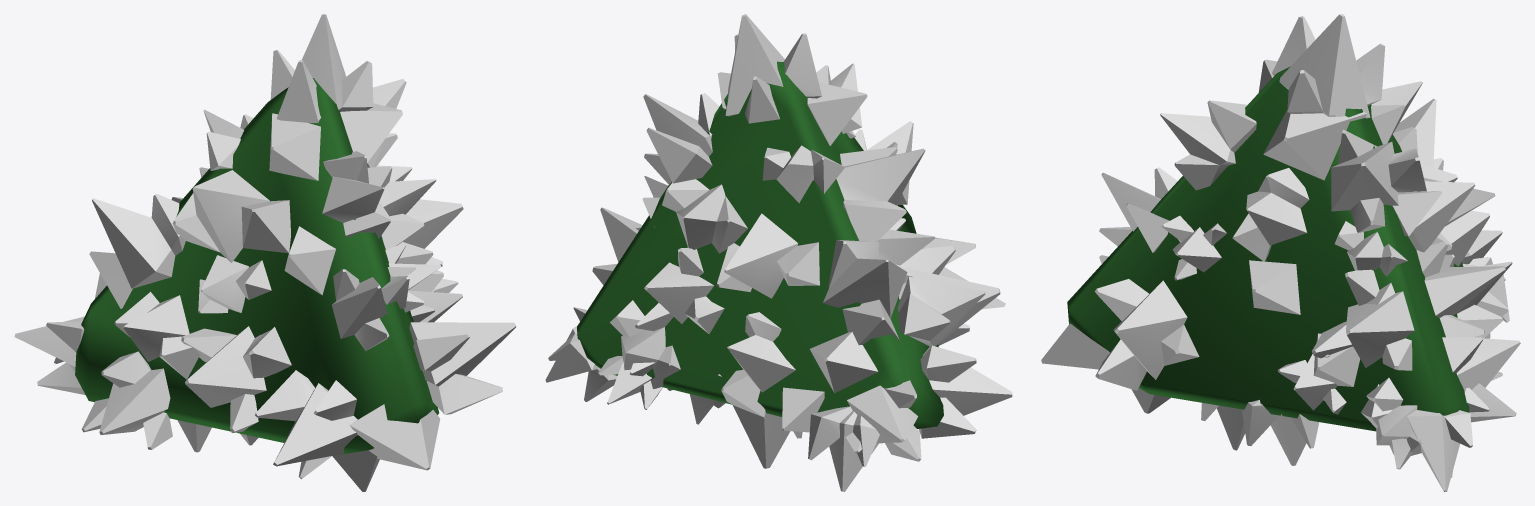
File: obj_voxelmaterialchunk_t4medium.fbx
The picture shows the model from 3 angles, left to right: view 1: azimuth 30°, elevation 25°; view 2: azimuth 150°, elevation 25°; view 3: azimuth 270°, elevation 25°; orthographic projection. The views are drawn at different scales.
Parts seen in each view (by area): view 1: t4_large_clutter.003, t4_large.003; view 2: t4_large_clutter.003, t4_large.003; view 3: t4_large_clutter.003, t4_large.003.
Boxes of the visible parts, left/top/right/bottom form: t4_large_clutter.003: left=14, top=14, right=516, bottom=491; t4_large.003: left=75, top=78, right=439, bottom=454; t4_large_clutter.003: left=545, top=14, right=1012, bottom=491; t4_large.003: left=577, top=61, right=943, bottom=428; t4_large_clutter.003: left=1041, top=14, right=1520, bottom=491; t4_large.003: left=1067, top=66, right=1469, bottom=431.
Size of the model in its own units: 9.9 by 9.88 by 9.6.
